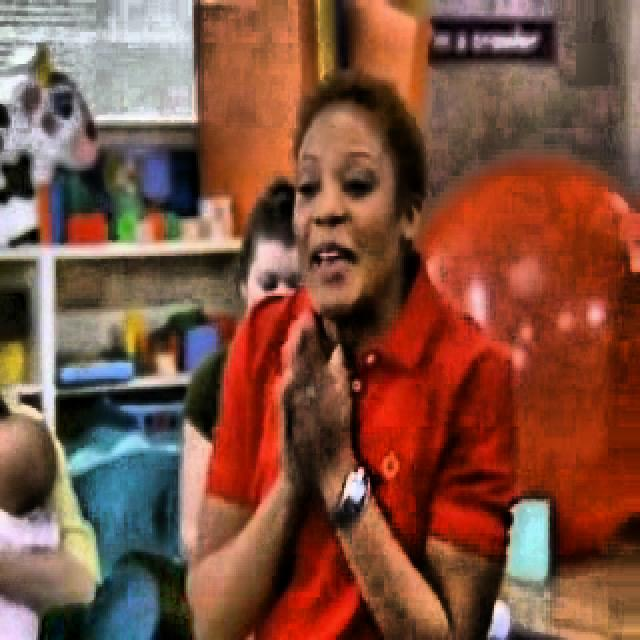F: (203, 86, 475, 640)
